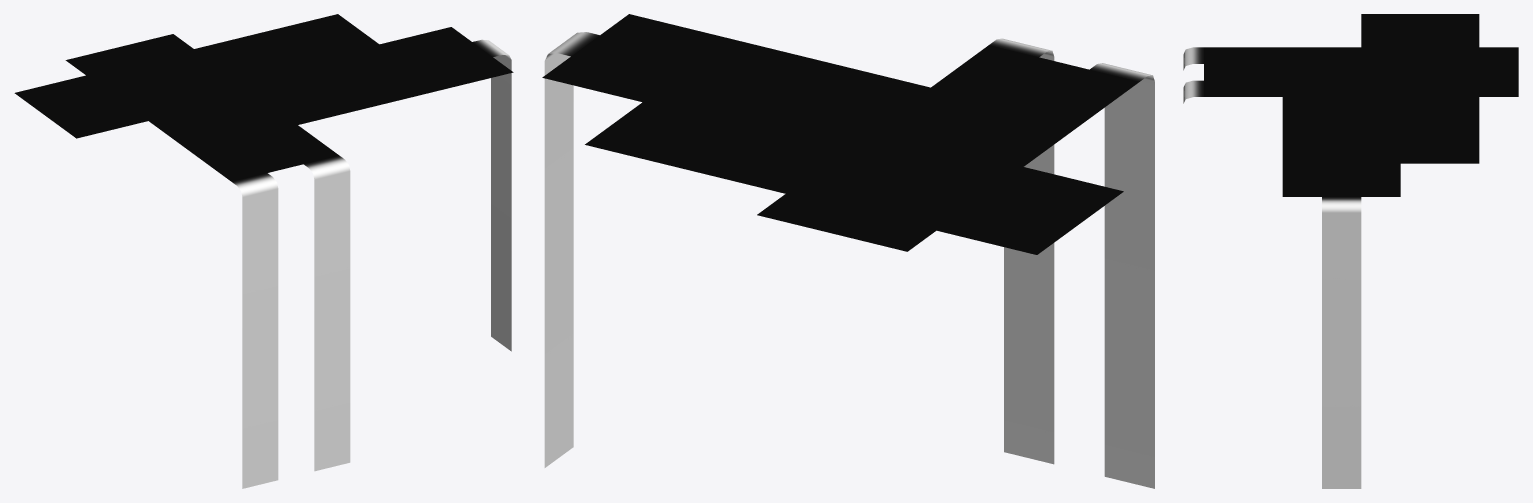
The model's file is mirageRoom3_MESH.fbx.
The picture shows the model from 3 angles, left to right: view 1: azimuth 30°, elevation 25°; view 2: azimuth 150°, elevation 25°; view 3: azimuth 270°, elevation 25°; orthographic projection. The views are drawn at different scales.
Parts seen in each view (by area): view 1: mirageRoom3; view 2: mirageRoom3; view 3: mirageRoom3.
Part boxes in pixels (x1,y1,x2,y2): mirageRoom3: [14, 14, 513, 488]; mirageRoom3: [542, 14, 1154, 488]; mirageRoom3: [1183, 14, 1518, 488].
Bounding box in the file's own units: 11.52 × 7.95 × 8.52.
1 material, 1 textured.
